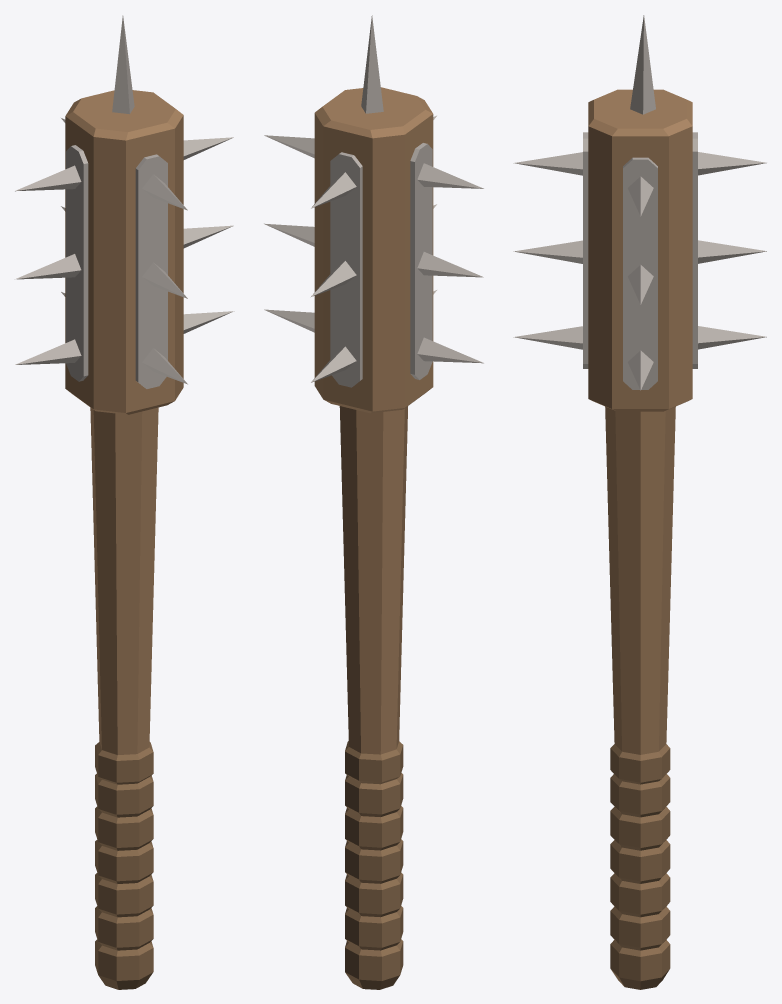
File: SM_pwe_medieval_club_05.fbx
3 views of the same model, side by side, from view 1: azimuth 30°, elevation 25°; view 2: azimuth 150°, elevation 25°; view 3: azimuth 270°, elevation 25° (orthographic).
Parts seen in each view (by area): view 1: SM_pwe_medieval_club_05; view 2: SM_pwe_medieval_club_05; view 3: SM_pwe_medieval_club_05.
Boxes of the visible parts, box(x1,y1,x2,y2) form: SM_pwe_medieval_club_05: box(15, 15, 234, 989); SM_pwe_medieval_club_05: box(264, 15, 483, 989); SM_pwe_medieval_club_05: box(513, 15, 766, 989).
Size of the model in its own units: 18.26 by 76.4 by 18.26.
